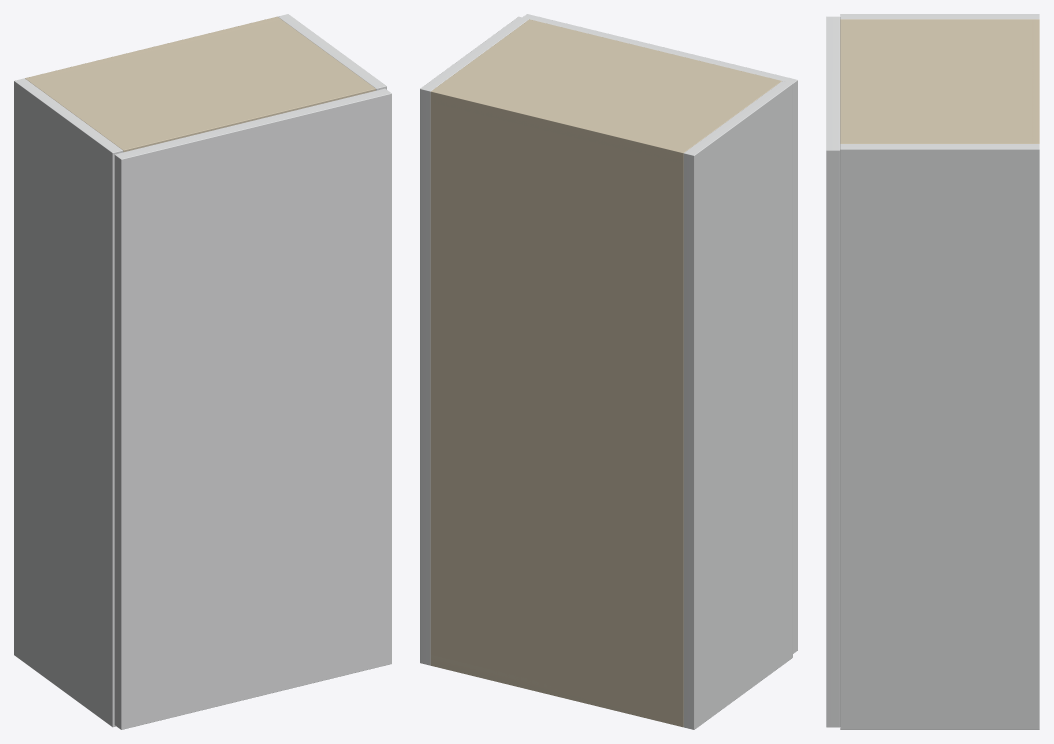
The model's file is oppein-ply-pgw-w1836.glb.
The picture shows the model from 3 angles, left to right: view 1: azimuth 30°, elevation 25°; view 2: azimuth 150°, elevation 25°; view 3: azimuth 270°, elevation 25°; orthographic projection.
Visible parts, largest first — view 1: Door, Cabinet side, Cabinet top, Cabinet side.001, Cabinet back; view 2: Cabinet back, Cabinet side, Cabinet top, Cabinet side.001, Door, Cabinet bottom; view 3: Cabinet side.001, Cabinet top, Door, Cabinet side, Cabinet back.
Part boxes in pixels (x1,y1,x2,y2): Door: [114, 88, 391, 729]; Cabinet side: [14, 78, 123, 727]; Cabinet top: [26, 19, 375, 152]; Cabinet side.001: [278, 14, 386, 90]; Cabinet back: [25, 16, 280, 80]; Cabinet back: [430, 88, 686, 727]; Cabinet side: [683, 81, 792, 729]; Cabinet top: [430, 19, 781, 163]; Cabinet side.001: [420, 16, 528, 665]; Door: [522, 14, 797, 653]; Cabinet bottom: [430, 655, 683, 726]; Cabinet side.001: [840, 144, 1039, 729]; Cabinet top: [840, 19, 1039, 143]; Door: [826, 16, 840, 727]; Cabinet side: [840, 14, 1039, 19]; Cabinet back: [1031, 19, 1039, 143].
Bounding box in the file's own units: 0.4572 × 0.9144 × 0.3048.
